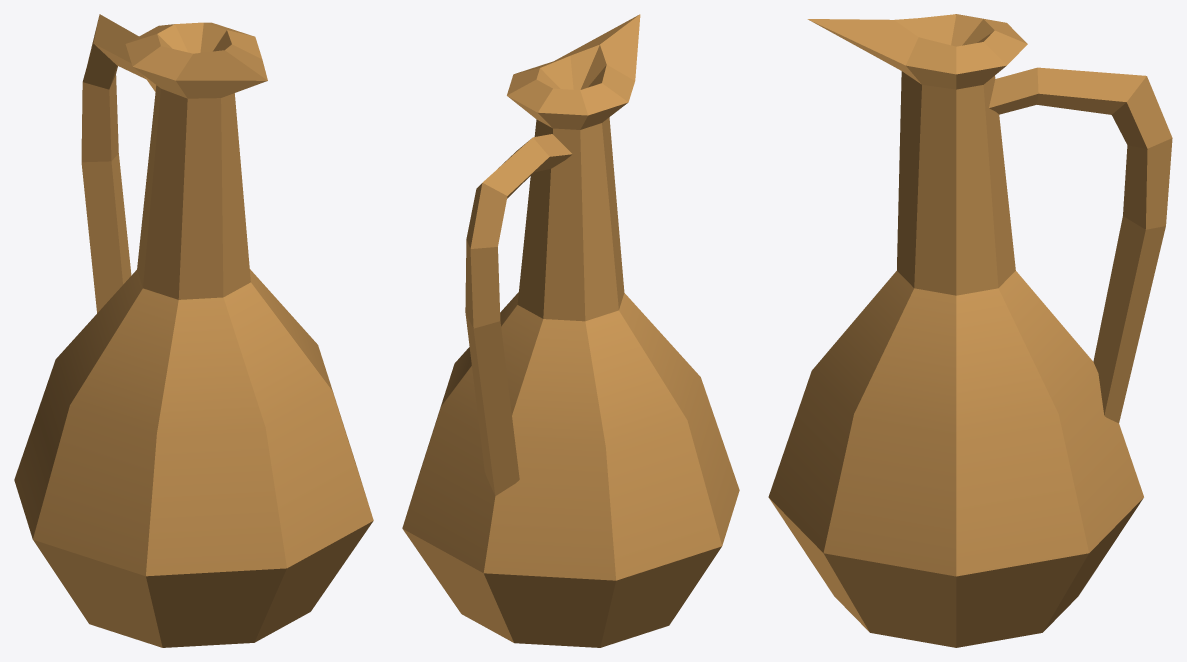
Rendered from SM_Prop_Gold_Teapot_03.glb.
The picture shows the model from 3 angles, left to right: view 1: azimuth 30°, elevation 25°; view 2: azimuth 150°, elevation 25°; view 3: azimuth 270°, elevation 25°; orthographic projection. The views are drawn at different scales.
Visible parts, largest first — view 1: SM_Prop_Gold_Teapot_03; view 2: SM_Prop_Gold_Teapot_03; view 3: SM_Prop_Gold_Teapot_03.
Part boxes in pixels (x1,y1,x2,y2): SM_Prop_Gold_Teapot_03: [14, 14, 373, 647]; SM_Prop_Gold_Teapot_03: [402, 14, 739, 647]; SM_Prop_Gold_Teapot_03: [768, 14, 1172, 647].
Bounding box in the file's own units: 0.2696 × 0.4571 × 0.2899.
1 material, 1 textured.
